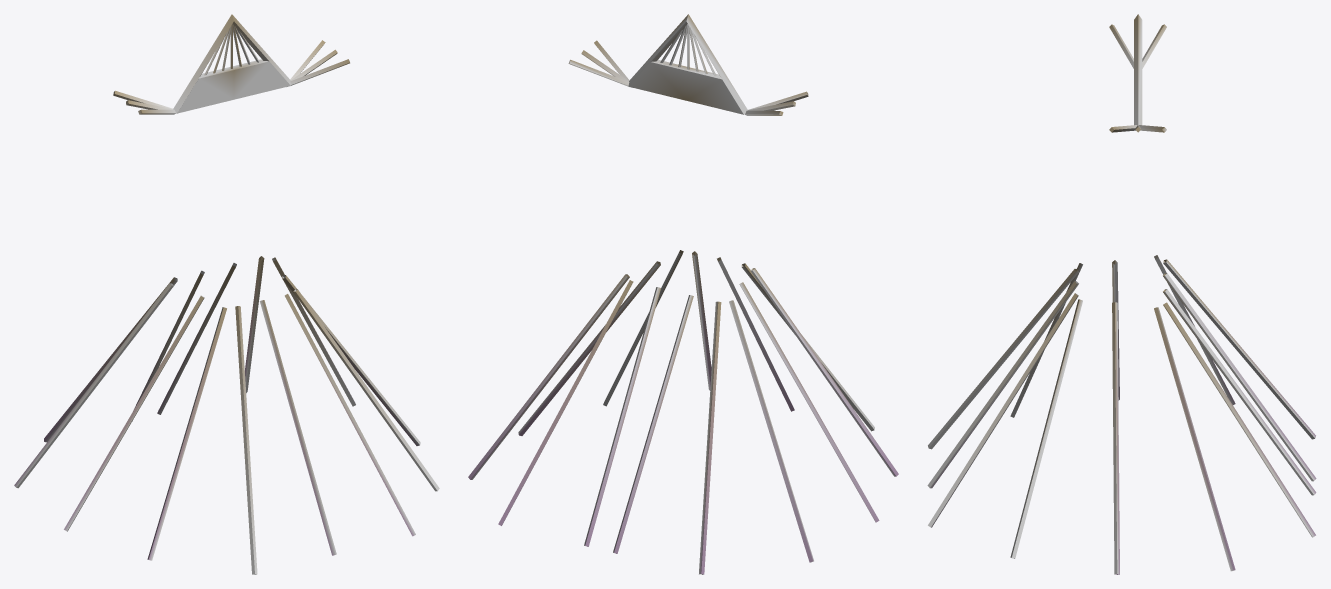
File: masenitsag3V3.fbx
The picture shows the model from 3 angles, left to right: view 1: azimuth 30°, elevation 25°; view 2: azimuth 150°, elevation 25°; view 3: azimuth 270°, elevation 25°; orthographic projection.
Visible parts, largest first — view 1: masenitsag3V3; view 2: masenitsag3V3; view 3: masenitsag3V3.
Part boxes in pixels (bbox=[...]): masenitsag3V3: bbox=[14, 14, 439, 574]; masenitsag3V3: bbox=[468, 14, 898, 574]; masenitsag3V3: bbox=[927, 14, 1316, 574].
Bounding box in the file's own units: 299 × 374 × 278.
